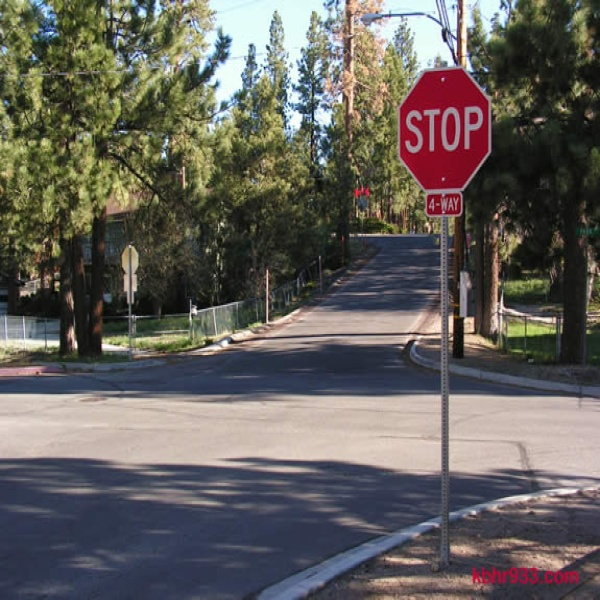stop: (394, 70, 492, 188)
